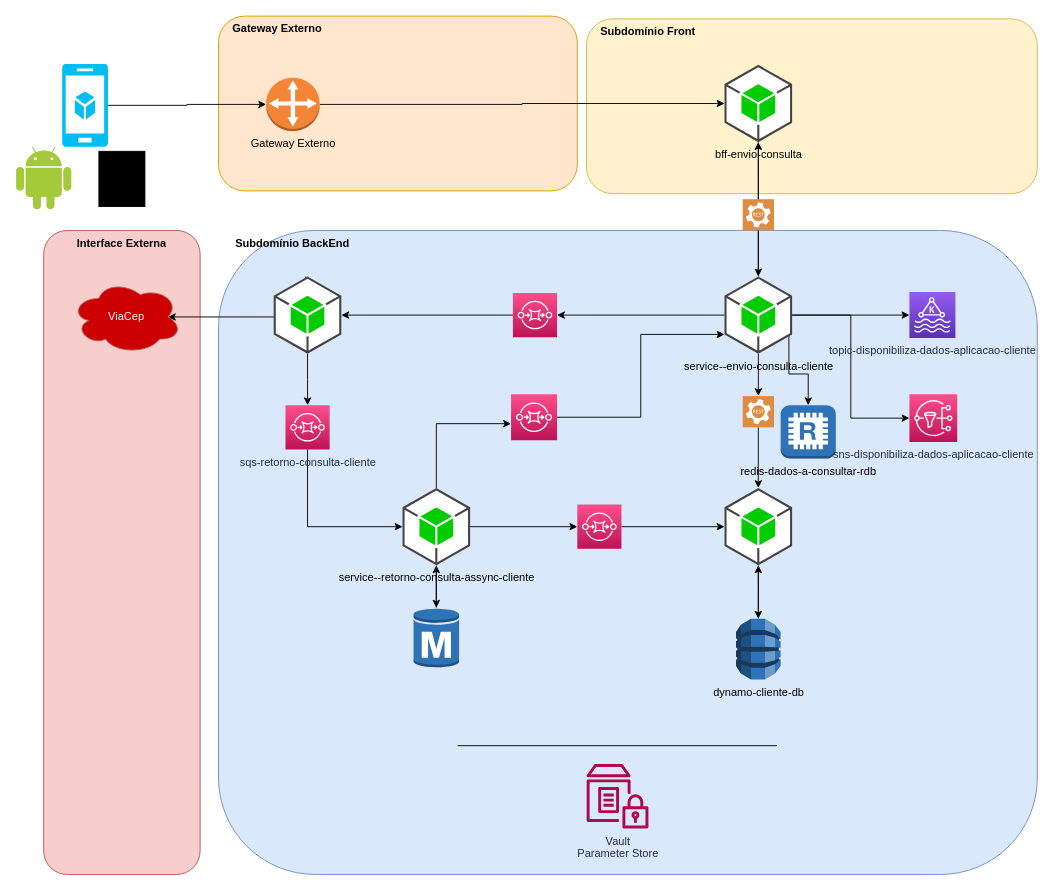
The diagram is 1053 pixels wide and 891 high, and some of its shapes have lost their labels. The centre of each missing label's shape, as x and y in pixels:
IOS: the point at 121,178
rds-retorno-consulta-db: the point at 436,637
service--cliente: the point at 758,526
service--consulta-gateway: the point at 307,315
sqs-consulta-cliente: the point at 534,314
sqs-inclusao-cliente-assync: the point at 598,526
sqs-reenvio-consulta-cliente: the point at 533,416
